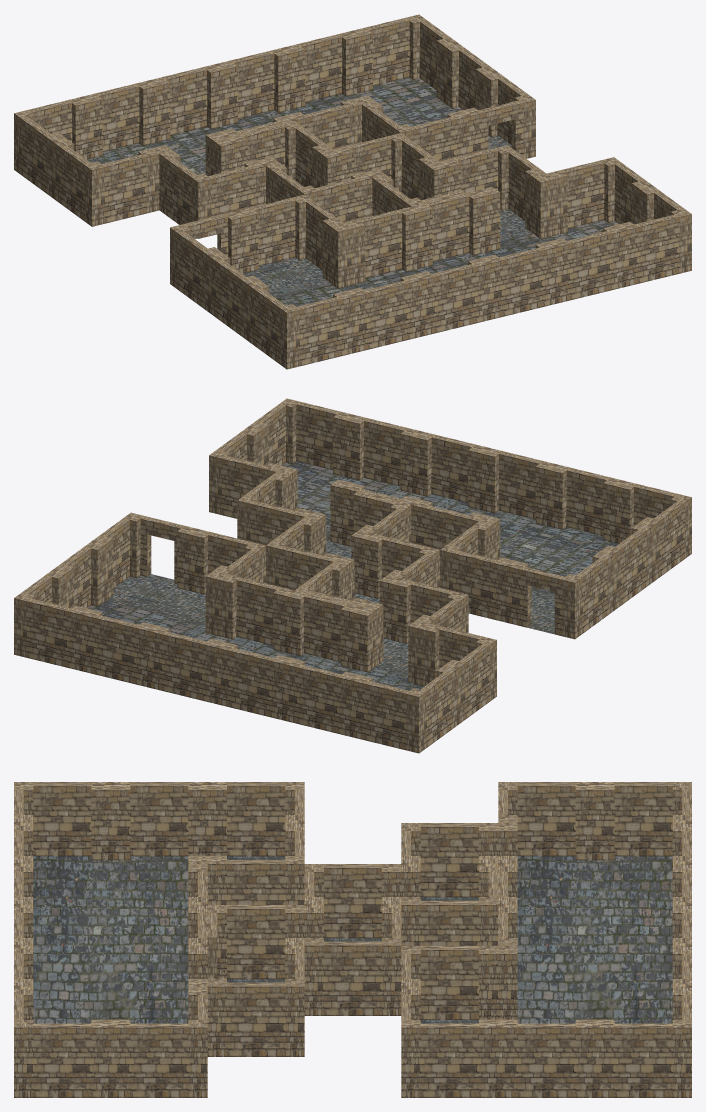
File: 1_6by7SRoom.fbx
3 views of the same model, one above another, from view 1: azimuth 30°, elevation 25°; view 2: azimuth 150°, elevation 25°; view 3: azimuth 270°, elevation 25° (orthographic). The views are drawn at different scales.
Parts seen in each view (by area): view 1: Cube_101, Plane_6; view 2: Cube_101, Plane_6; view 3: Cube_101, Plane_6.
Boxes of the visible parts, box(x1,y1,x2,y2) form: Cube_101: box(14, 14, 691, 369); Plane_6: box(87, 77, 618, 306); Cube_101: box(14, 398, 691, 753); Plane_6: box(87, 461, 618, 690); Cube_101: box(14, 782, 691, 1097); Plane_6: box(33, 856, 672, 1023).
Size of the model in its own units: 60 by 8 by 70.
2 materials, 2 textured.
